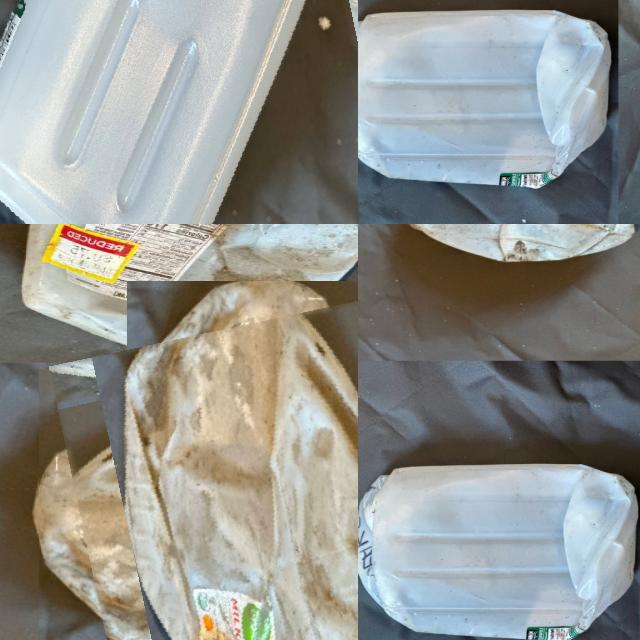milk-jug: (65, 308, 358, 640), (0, 0, 358, 224), (358, 464, 638, 639), (358, 10, 611, 185), (23, 224, 358, 353), (400, 224, 639, 259)
